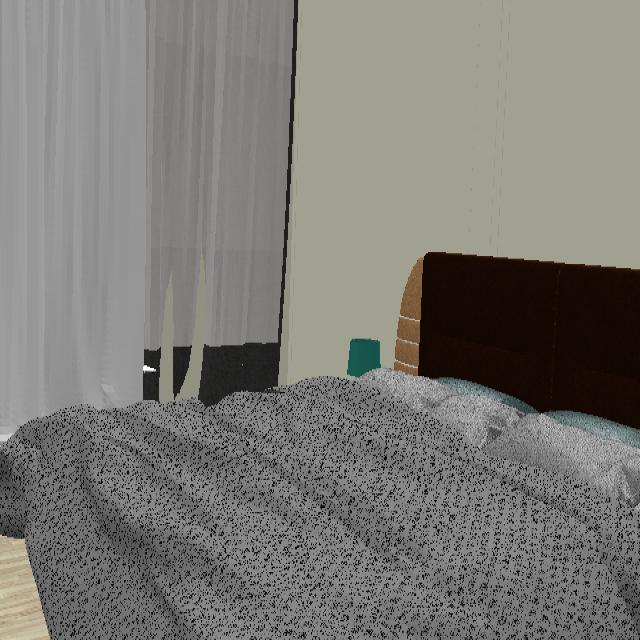bed: (0, 369, 640, 640)
lamp: (348, 339, 383, 379)
pillow: (357, 368, 640, 492), (545, 411, 640, 451), (444, 379, 536, 415)
